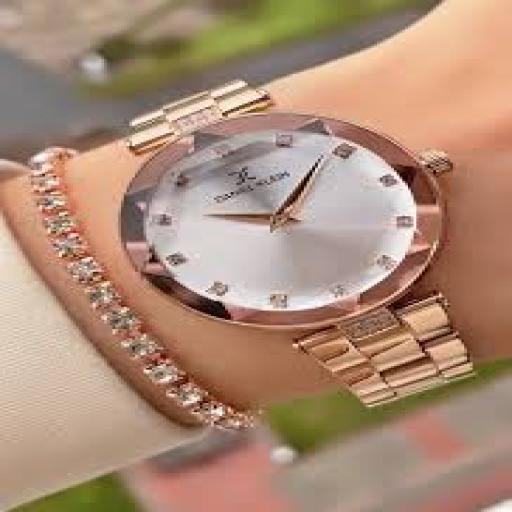KolSaati: (85, 66, 486, 406)
